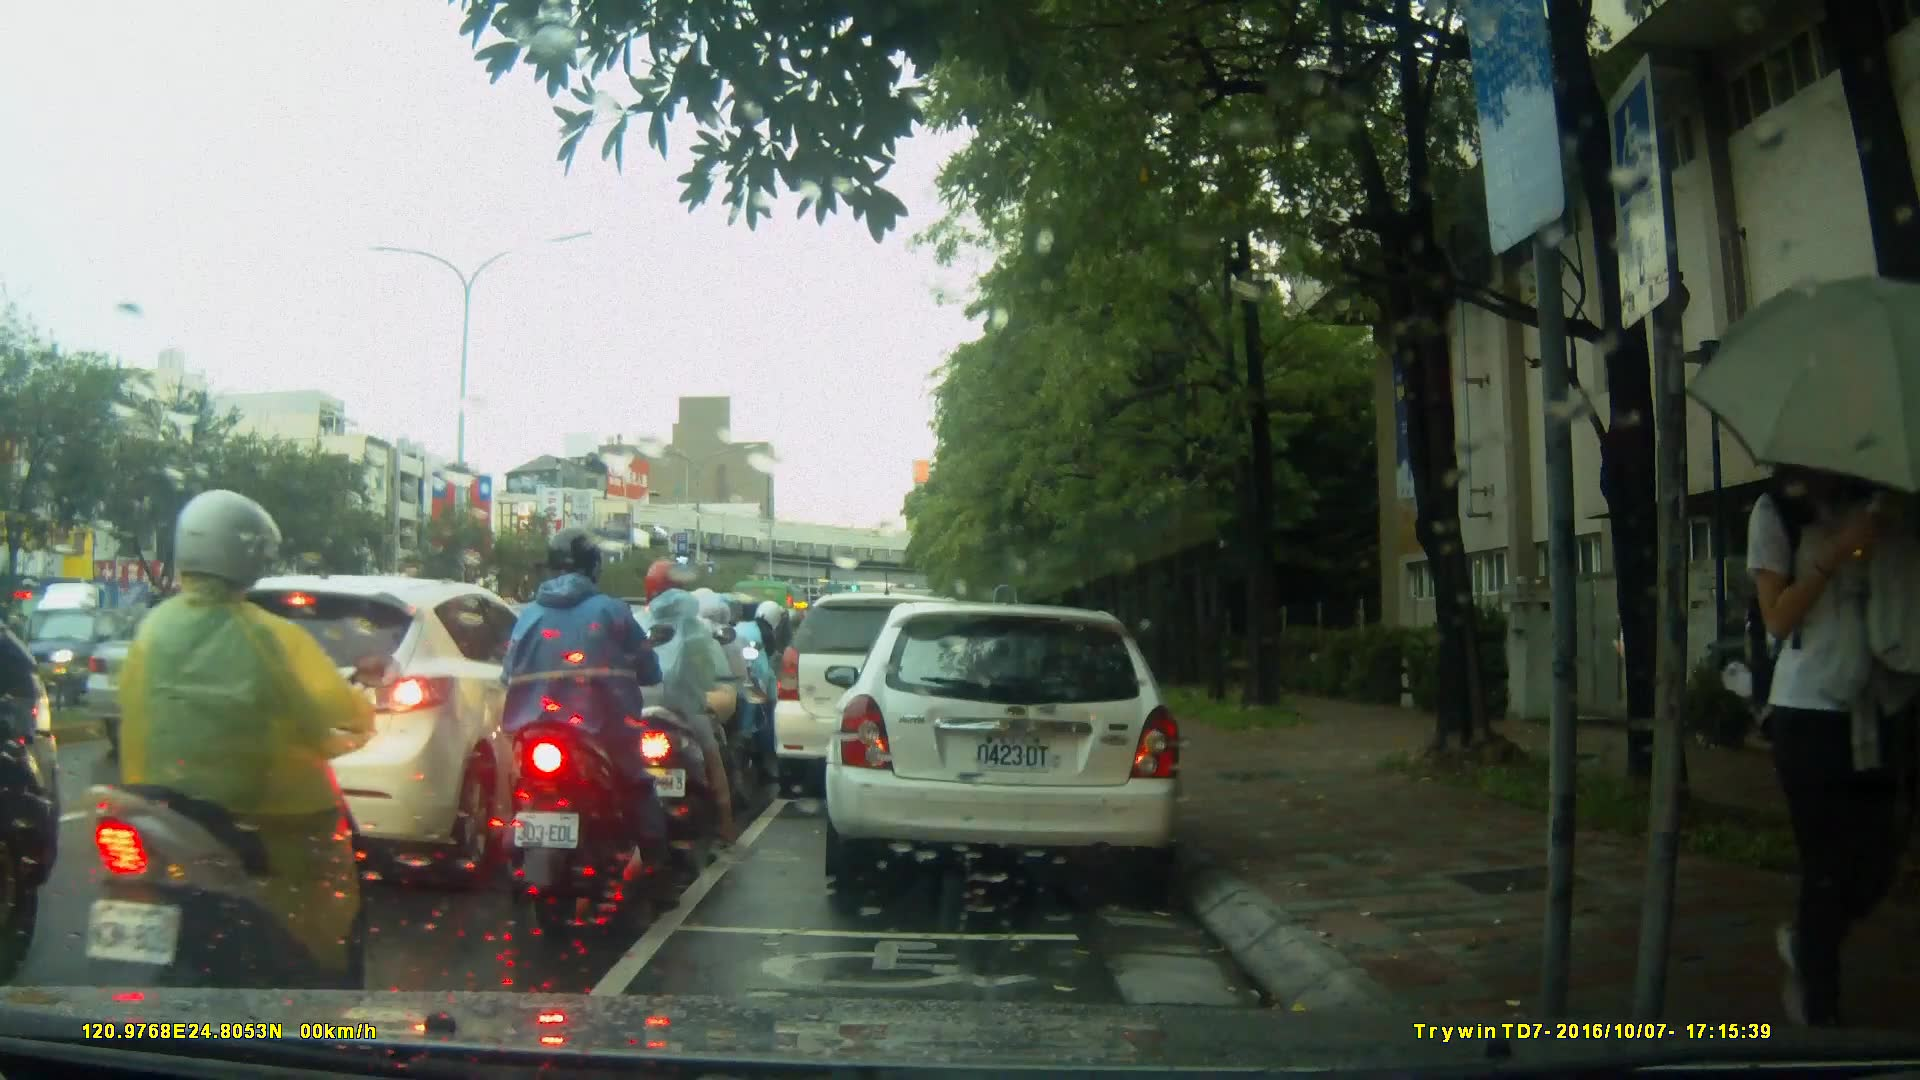pedestrian: (1738, 409, 1920, 1017)
rider: (80, 480, 383, 1057), (493, 524, 682, 924), (599, 560, 740, 857), (643, 581, 763, 823), (719, 594, 788, 767)
vehicle: (129, 571, 589, 881), (822, 604, 1188, 883), (774, 595, 995, 802), (82, 601, 334, 748), (20, 576, 199, 697)
